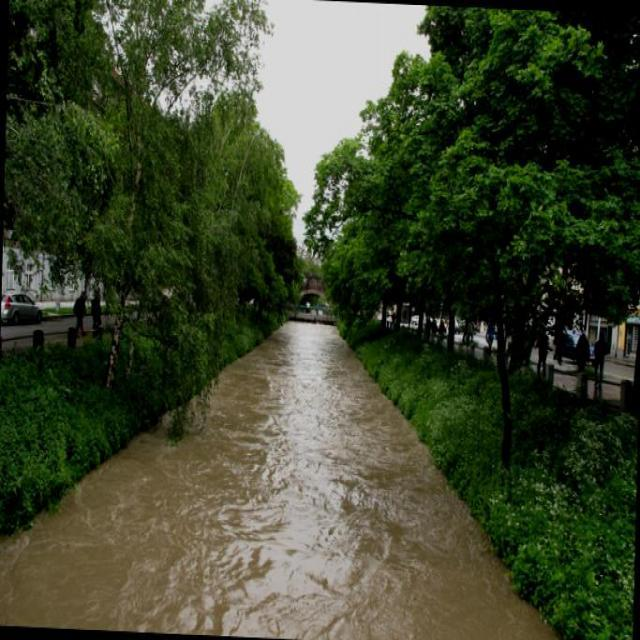flood: (0, 306, 583, 639)
